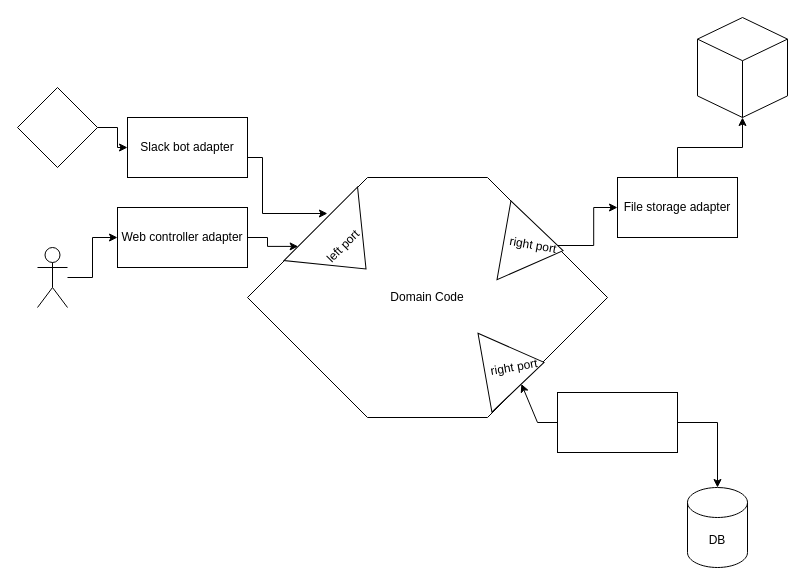
Image size: 805x585. Some labels were removed from this diagram. The shapes that lost their labels are listed below. From the top down, each one's centre as x and y in pixels, then its label:
[742,67]: 3rd-party system
[57,127]: Client 2
[52,277]: Client
[617,422]: DB Adapter
